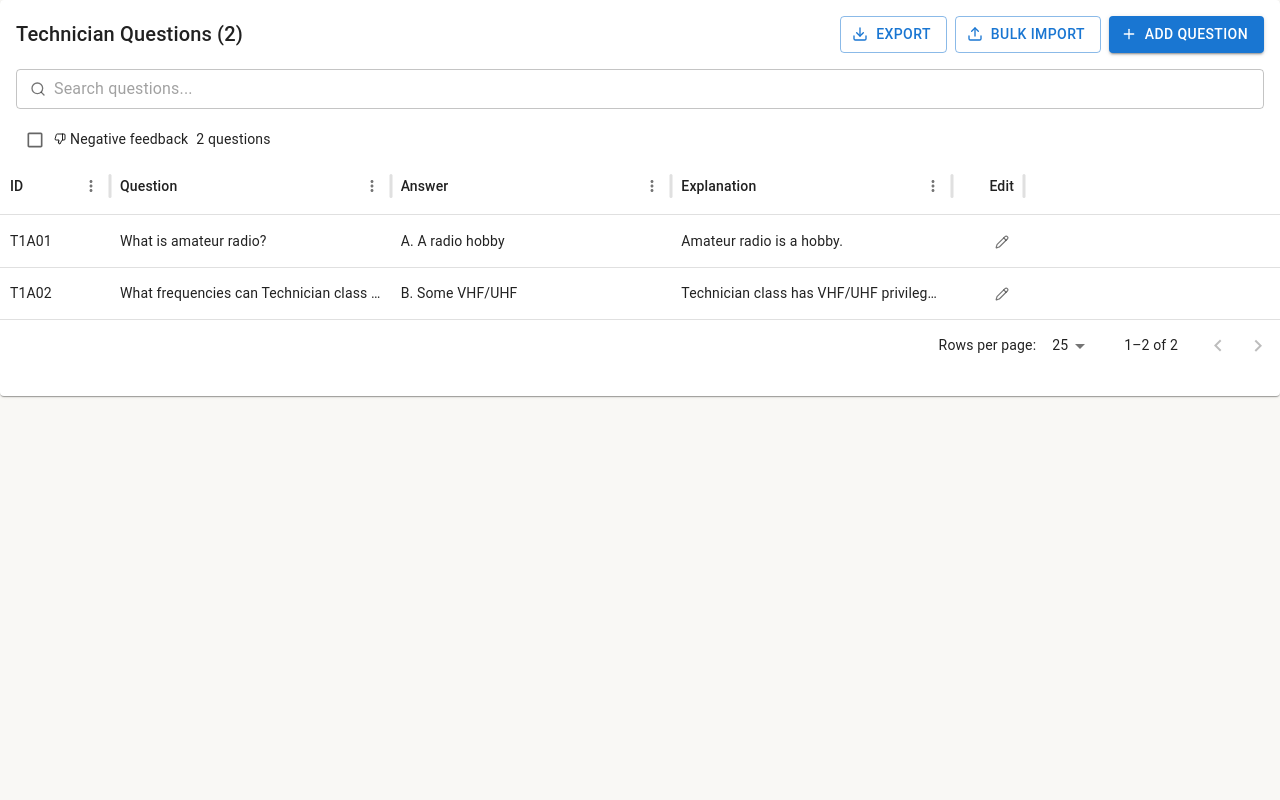
AdminQuestions › Edit Question Dialog › should show Linked Topics section in edit dialog (read-only)
expect the text "T1A01" is shown: met, box [10,232,52,248]
What coordinates should you click on to do the following:
click the button named "Edit T1A01"
I would click on:
 (1002, 242)
Its box is [990,230,1014,254].
(page scrolled)
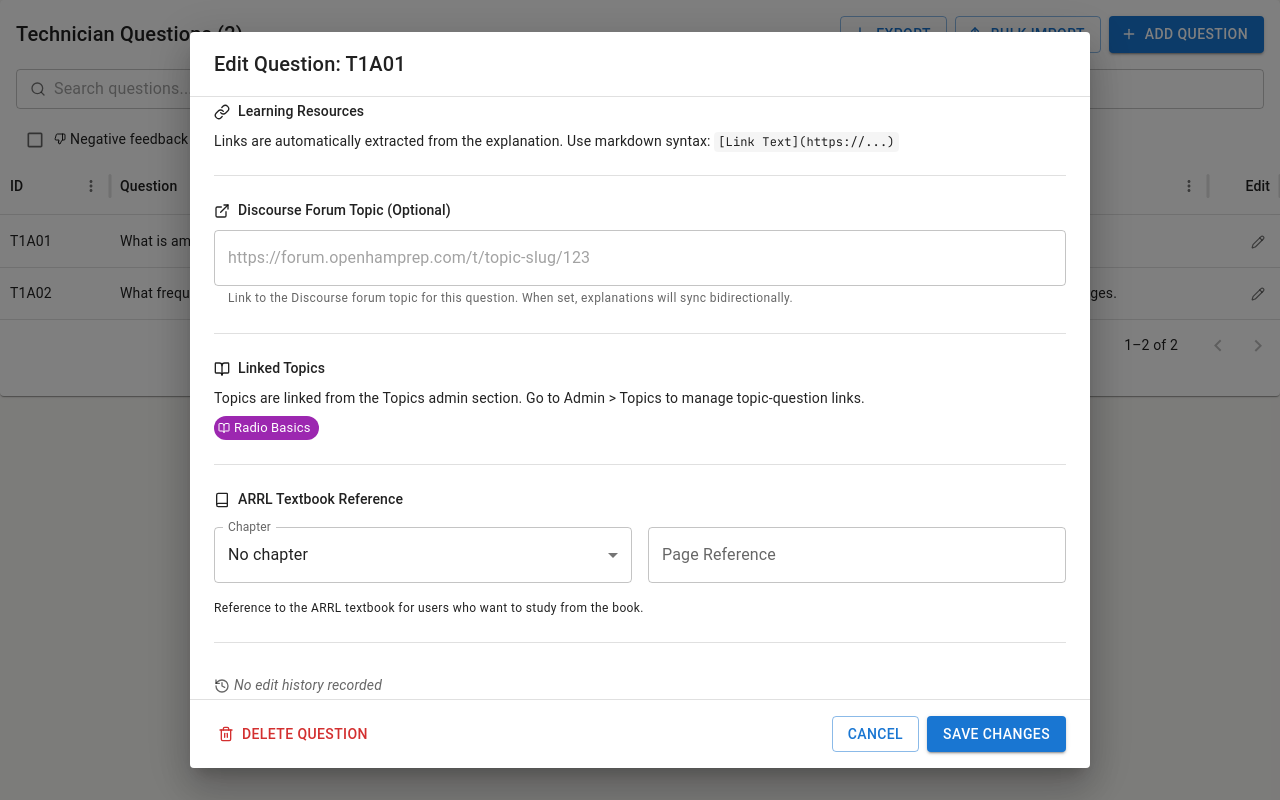
expect the heading "Linked Topics" is shown: met, box [214,360,325,377]
expect the text "Topics are linked from the Topics admin section" is shown: met, box [214,390,865,406]
